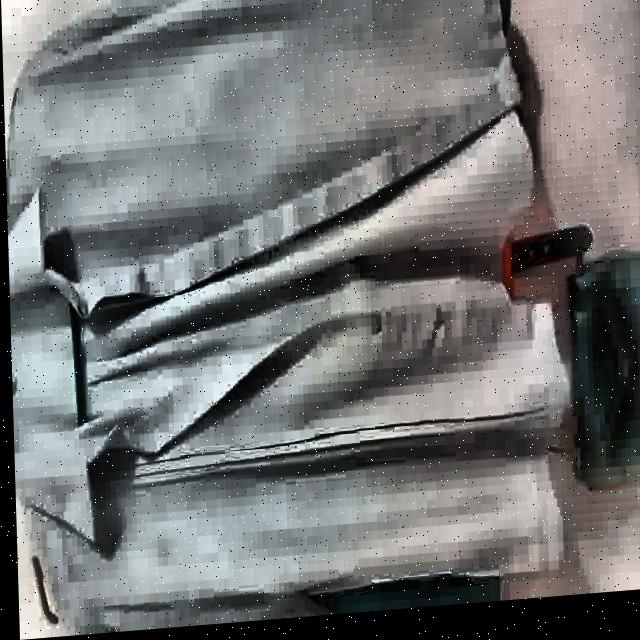clothes: (0, 0, 581, 640)
